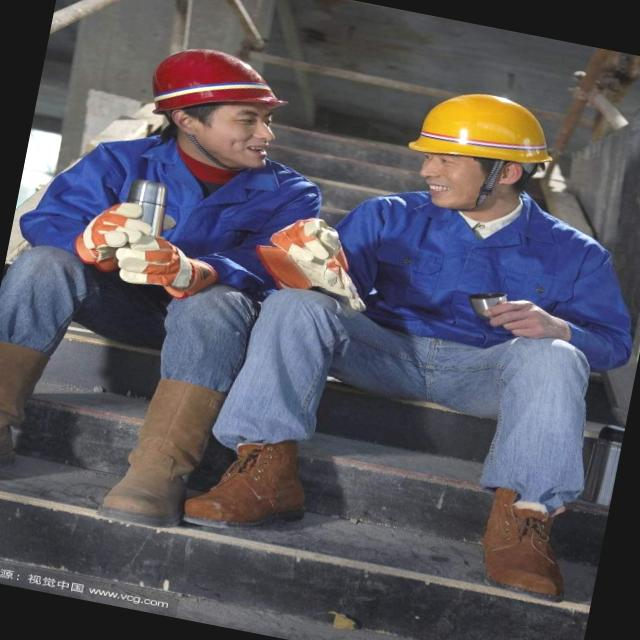helmet: (389, 72, 572, 186), (124, 36, 306, 144)
no-goggles: (195, 98, 283, 140), (420, 149, 490, 176)
no-vest: (329, 174, 636, 361), (55, 126, 308, 320)
